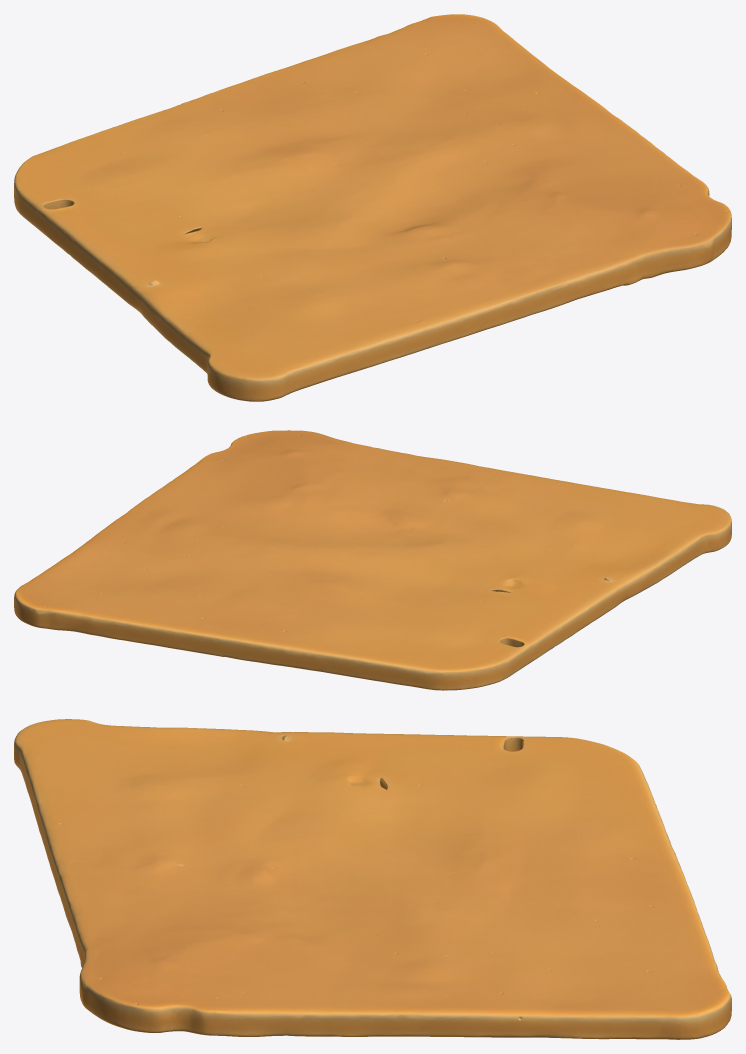
Rendered from cheese.glb.
3 views of the same model, one above another, from view 1: azimuth 30°, elevation 25°; view 2: azimuth 150°, elevation 25°; view 3: azimuth 270°, elevation 25° (orthographic). The views are drawn at different scales.
Parts seen in each view (by area): view 1: tripo_node_18fc9e1c-29d8-4730-9828-aa90769a3031; view 2: tripo_node_18fc9e1c-29d8-4730-9828-aa90769a3031; view 3: tripo_node_18fc9e1c-29d8-4730-9828-aa90769a3031.
Part boxes in pixels (bbox=[...]): tripo_node_18fc9e1c-29d8-4730-9828-aa90769a3031: bbox=[14, 14, 731, 401]; tripo_node_18fc9e1c-29d8-4730-9828-aa90769a3031: bbox=[14, 430, 731, 690]; tripo_node_18fc9e1c-29d8-4730-9828-aa90769a3031: bbox=[14, 719, 731, 1039].
Bounding box in the file's own units: 0.9849 × 0.0561 × 1.
1 material, 1 textured.
